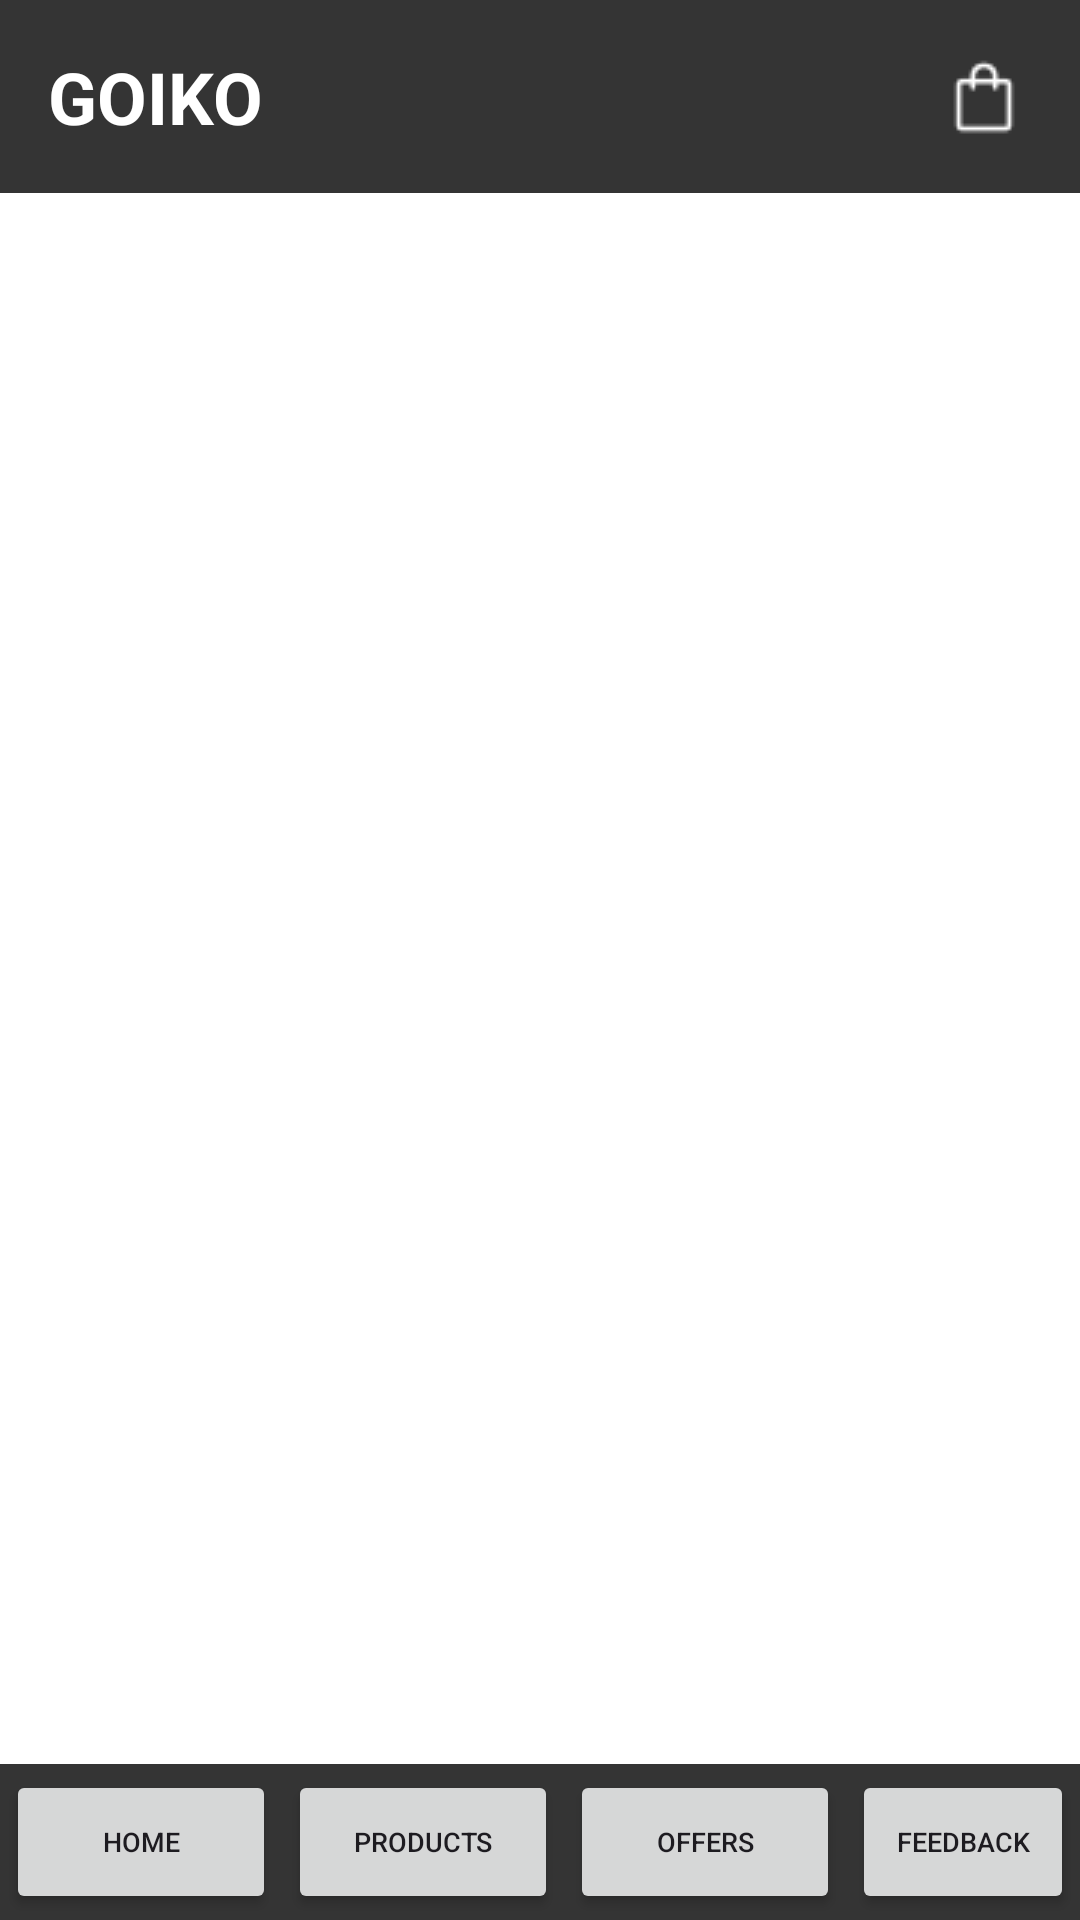

Named icons in this screenshot (1080×1920) and their bounding boxes, bbox=(x1, y1, x2, y2):
Cart: bbox=(954, 61, 1014, 133)
